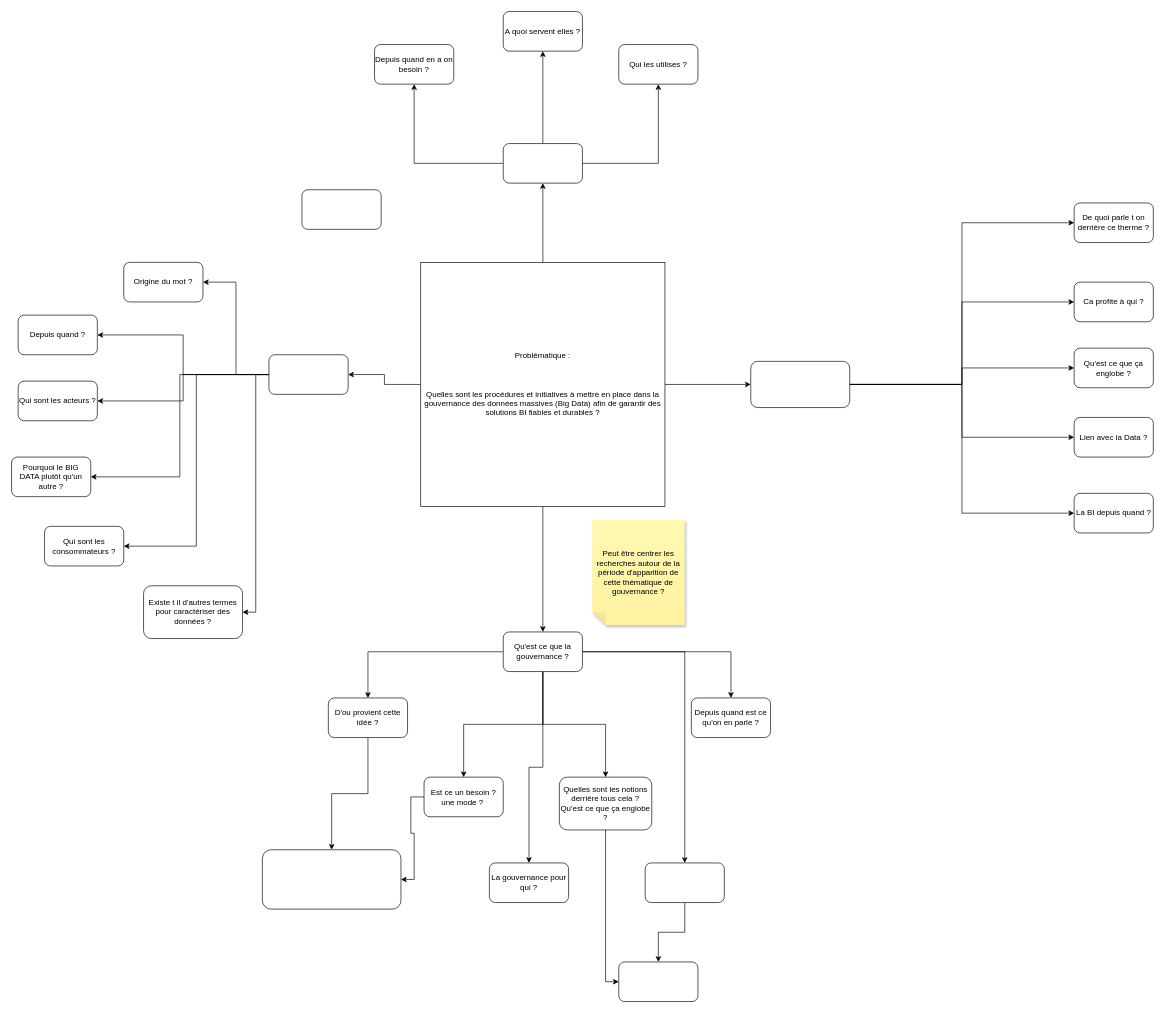
The diagram is 1165 pixels wide and 1013 high, and some of its shapes have lost their labels. Each missing label, with the centre of its shape:
"Est ce couteux à mettre en place ?" belongs at (x=684, y=882).
"Qu'est ce qu'une donnée ?" belongs at (x=542, y=163).
"Qu'est ce que la BI ?" belongs at (x=800, y=384).
"Que veut dire BIG DATA ?" belongs at (x=308, y=374).
"Quelles sont les process ?" belongs at (x=658, y=981).
"Voit on des changement ? Améliorations aujourd'hui grace à cela ?" belongs at (x=331, y=879).
